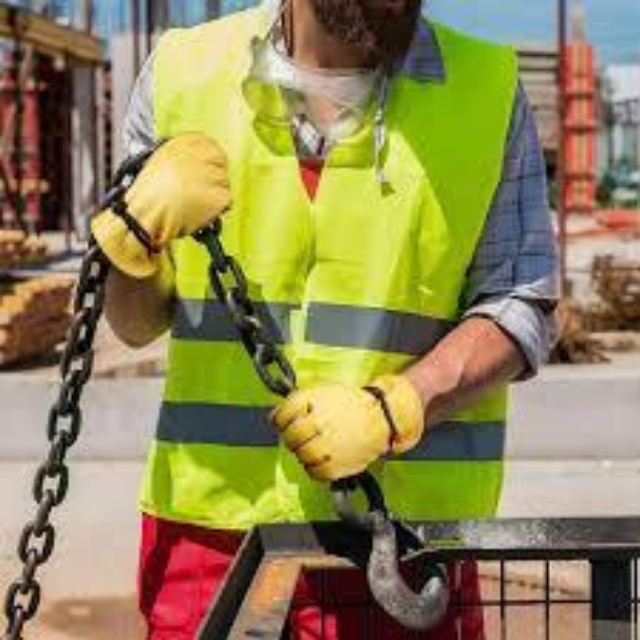Guantes: (88, 131, 230, 279), (267, 373, 424, 481)
